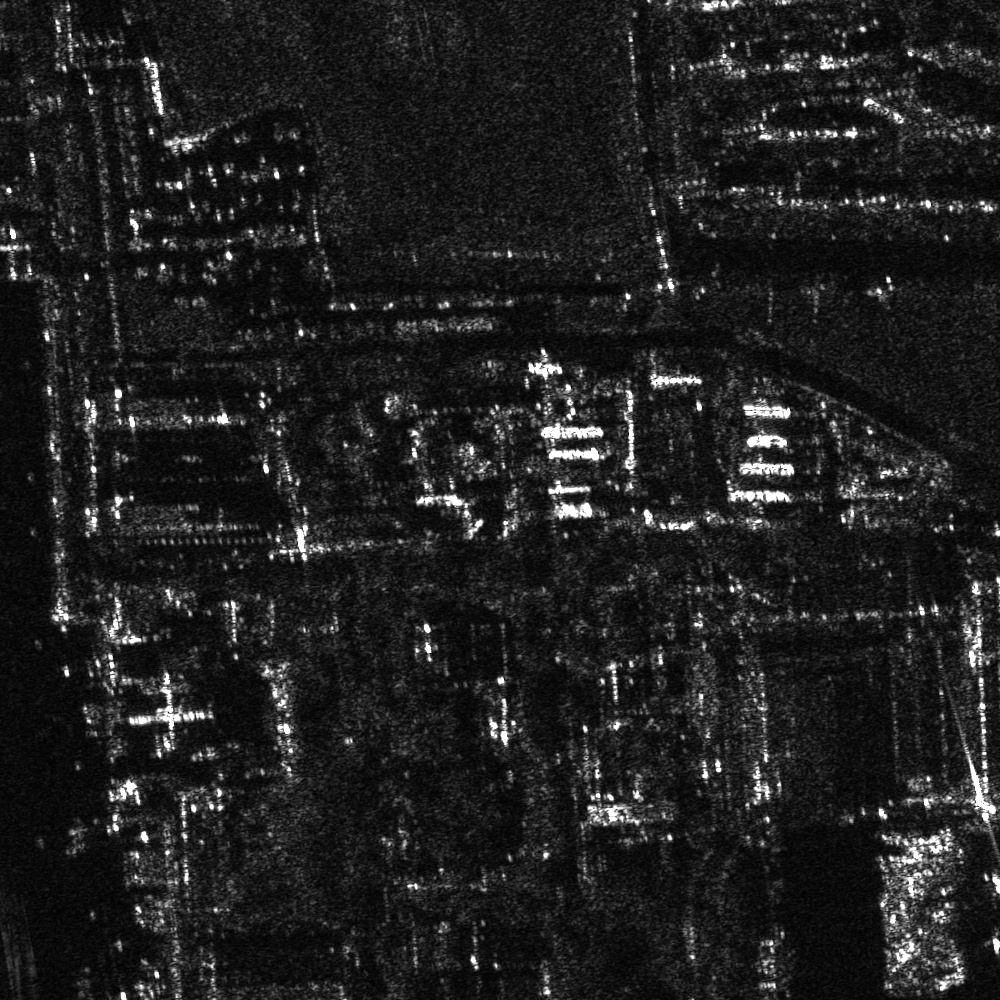Boeing737: (961, 864, 999, 958)
